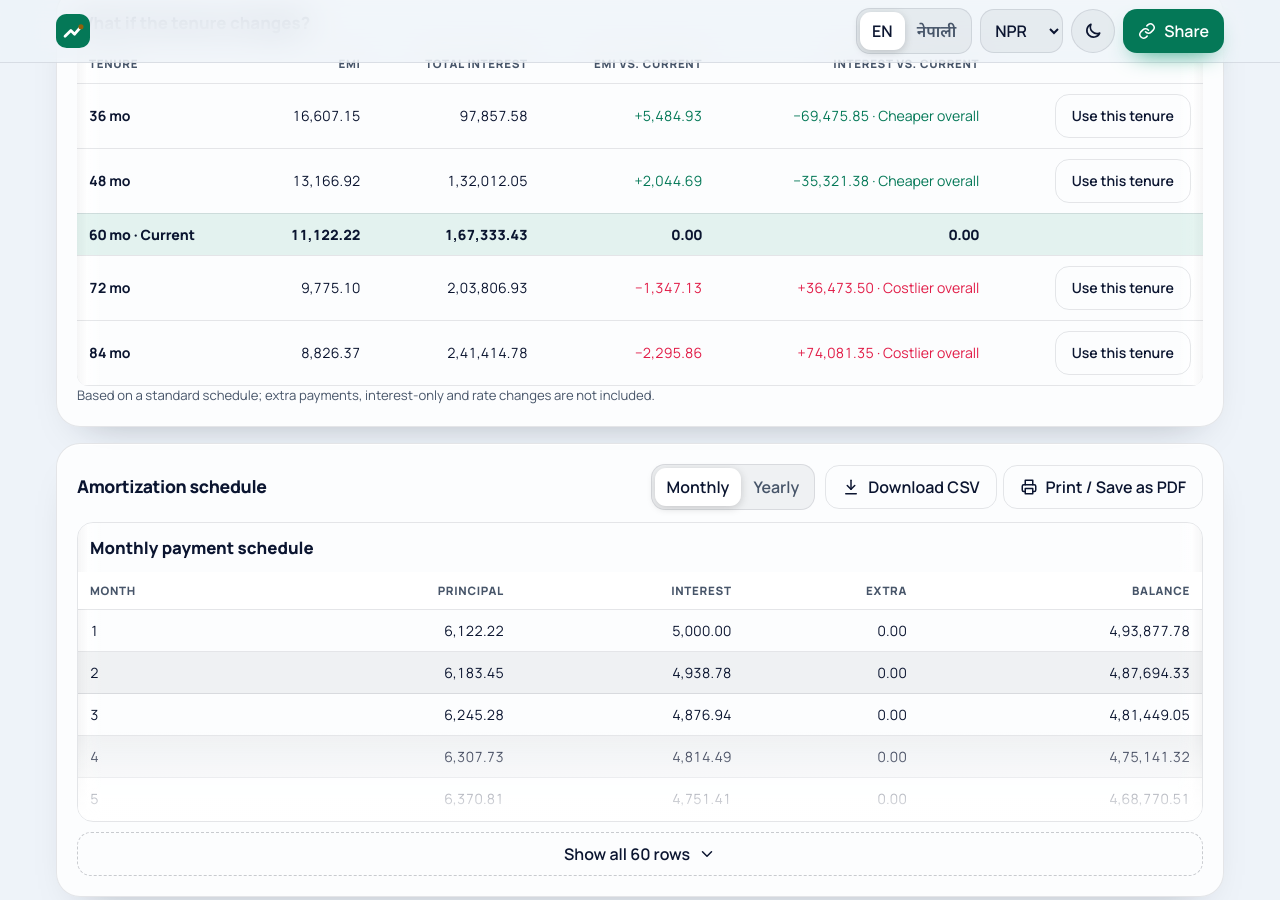
Scenario: tables have caption and column-scoped headers
(page scrolled)
Click the button "Yearly".
click(776, 486)  # box [741,468,811,506]
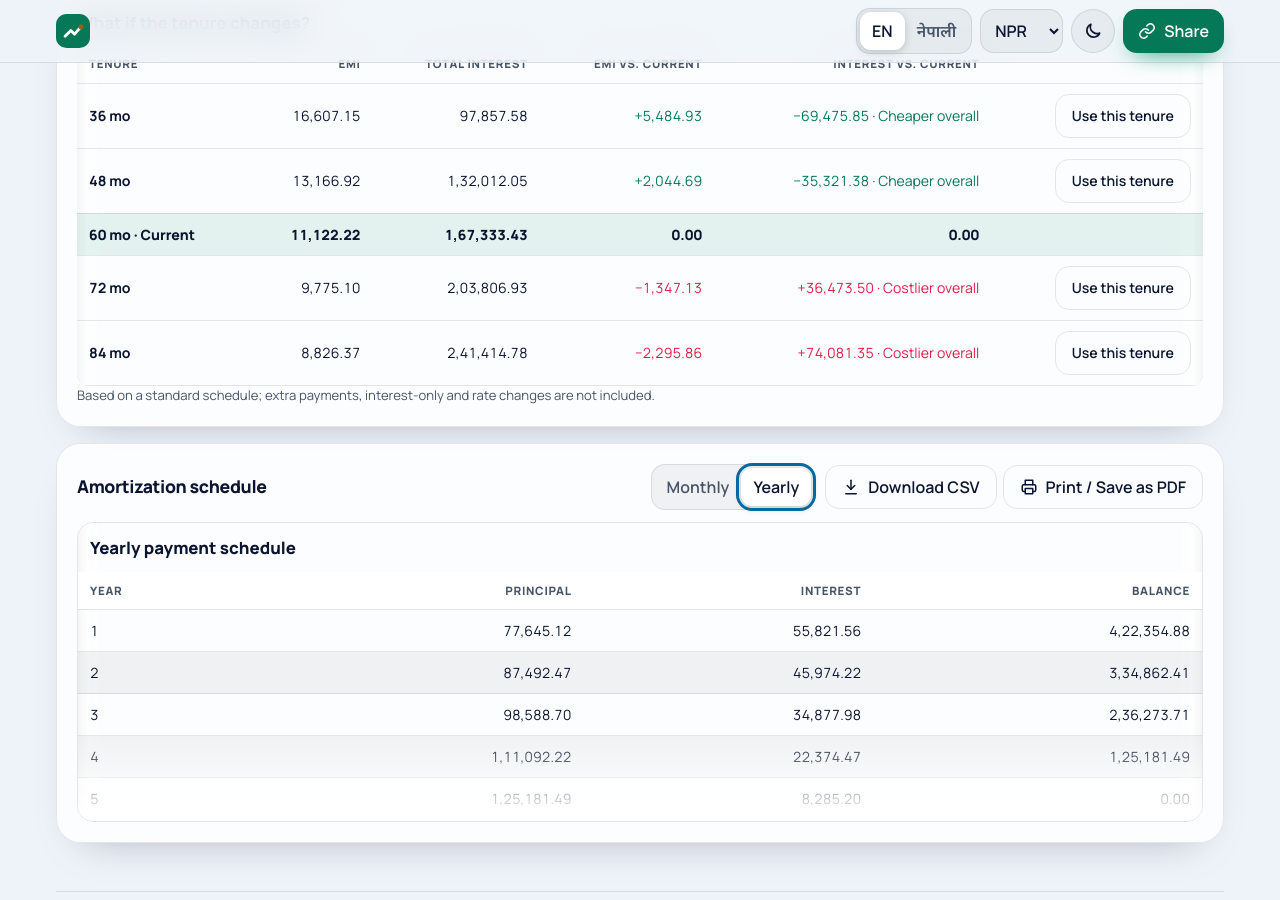
Expected: the table "Yearly payment schedule" is shown, [78,522,1202,820]
